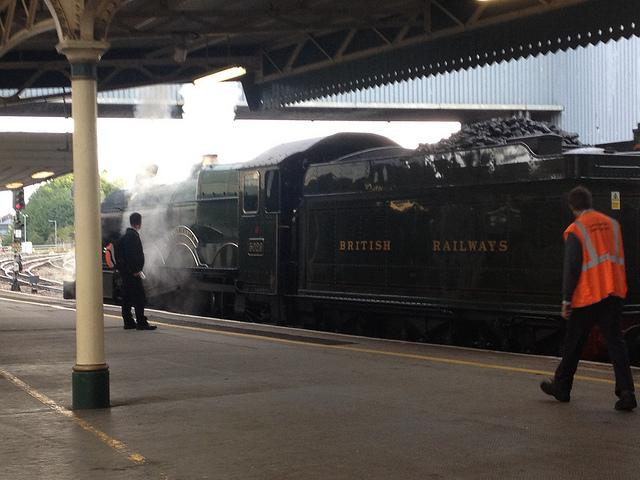Train: (105, 116, 640, 359)
